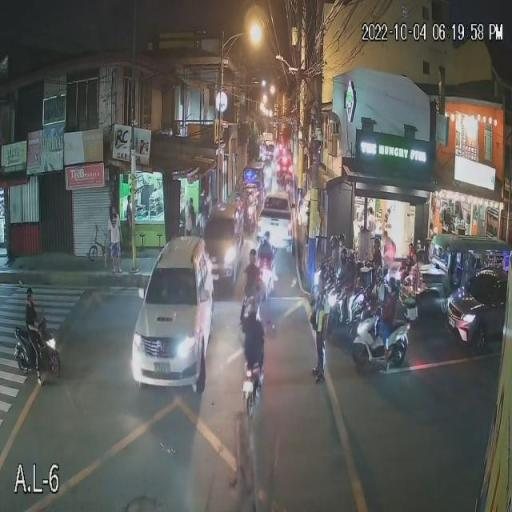helmet: (384, 276, 400, 295), (245, 296, 260, 316), (247, 248, 259, 265), (336, 232, 346, 250), (346, 248, 357, 262), (329, 234, 339, 249), (261, 230, 272, 243), (338, 248, 349, 260)
motorcycle: (350, 317, 413, 371), (13, 324, 65, 376), (241, 361, 265, 418), (347, 288, 382, 320), (328, 286, 352, 326), (258, 256, 274, 292), (312, 265, 328, 294)
rider: (23, 304, 44, 386), (379, 293, 400, 359), (240, 316, 267, 366), (244, 265, 262, 293), (258, 244, 276, 266), (342, 264, 354, 290), (328, 246, 338, 270), (337, 246, 342, 272)
